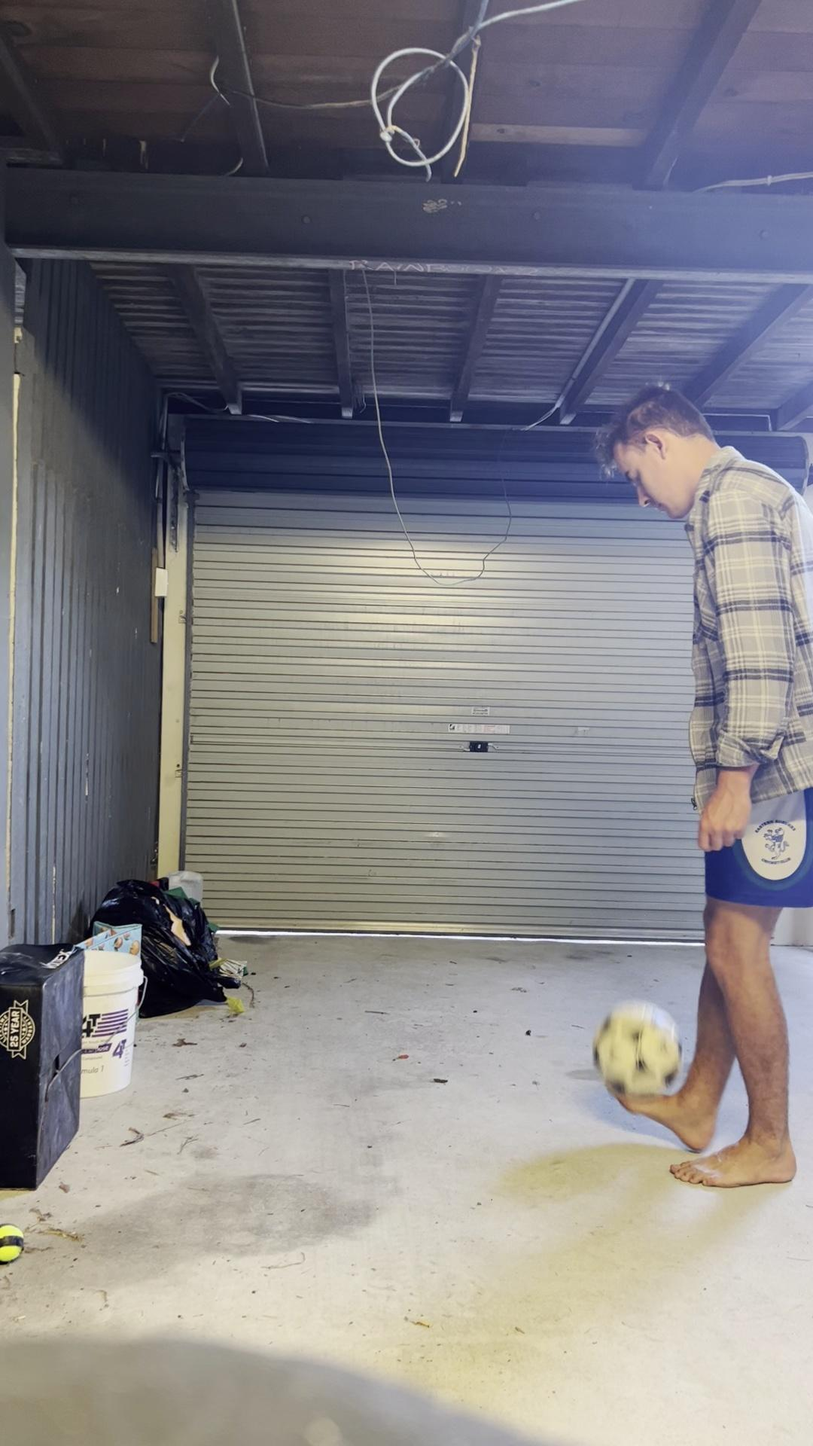ball: (592, 1002, 683, 1094)
foot: (609, 1083, 719, 1151), (667, 1138, 801, 1188)
person: (606, 389, 813, 1187)
